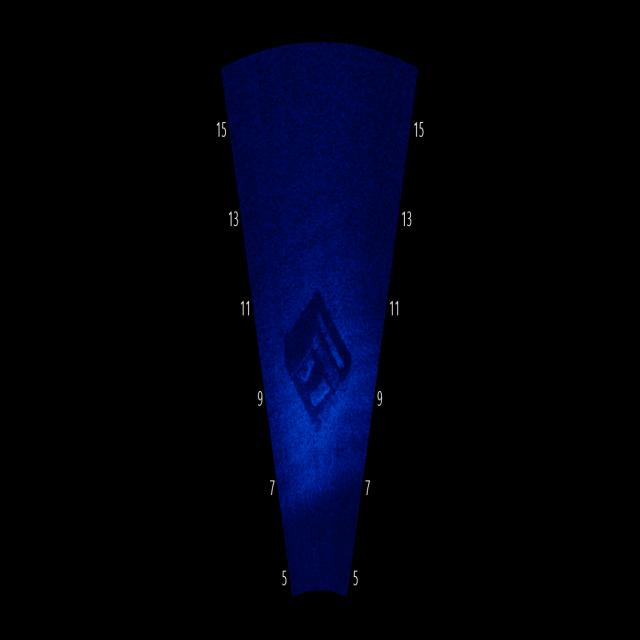square: (275, 256, 359, 439)
